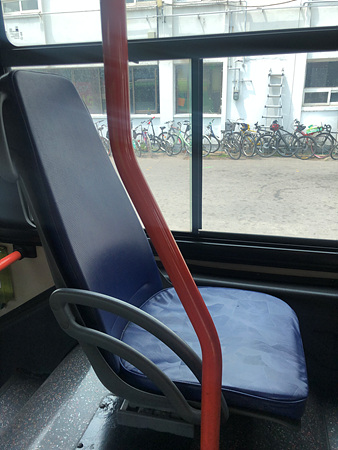seat: (10, 62, 307, 421)
